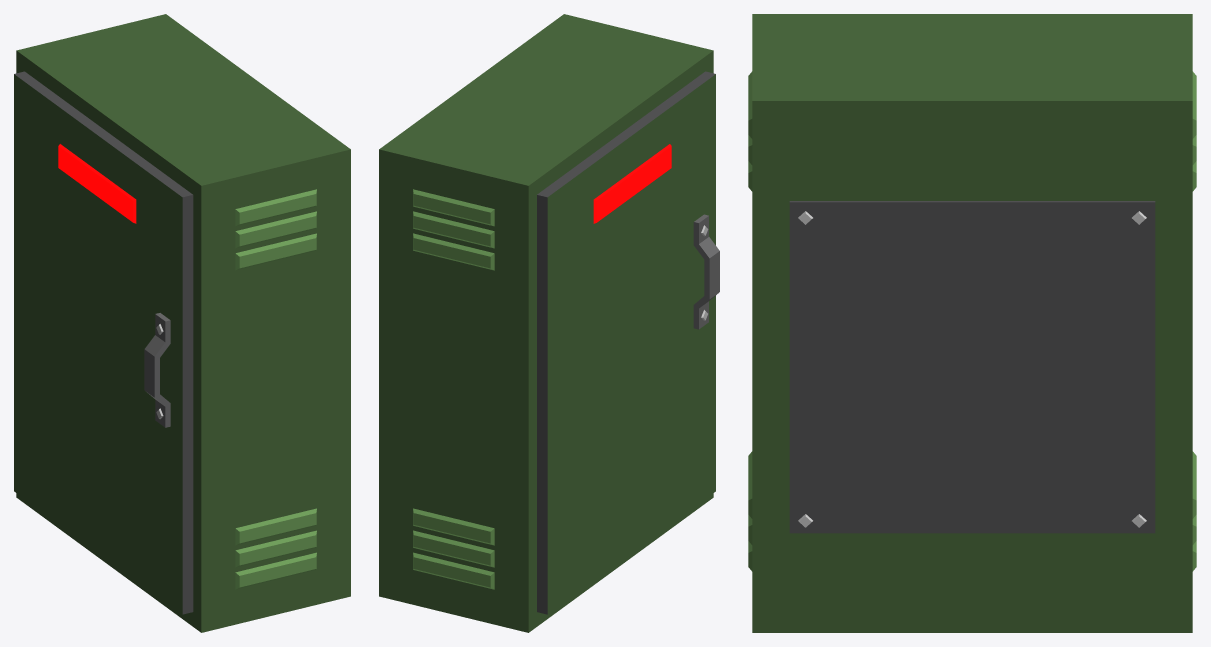
File: SM_Electric_Box.fbx
The picture shows the model from 3 angles, left to right: view 1: azimuth 30°, elevation 25°; view 2: azimuth 150°, elevation 25°; view 3: azimuth 270°, elevation 25°; orthographic projection. The views are drawn at different scales.
Parts seen in each view (by area): view 1: SM_Electric_Box_LOD0; view 2: SM_Electric_Box_LOD0; view 3: SM_Electric_Box_LOD0.
Part boxes in pixels (x1,y1,x2,y2): SM_Electric_Box_LOD0: (14,14,350,632); SM_Electric_Box_LOD0: (379,14,719,632); SM_Electric_Box_LOD0: (748,14,1196,632).
Size of the model in its own units: 50.64 by 91.66 by 120.
1 material, 1 textured.
